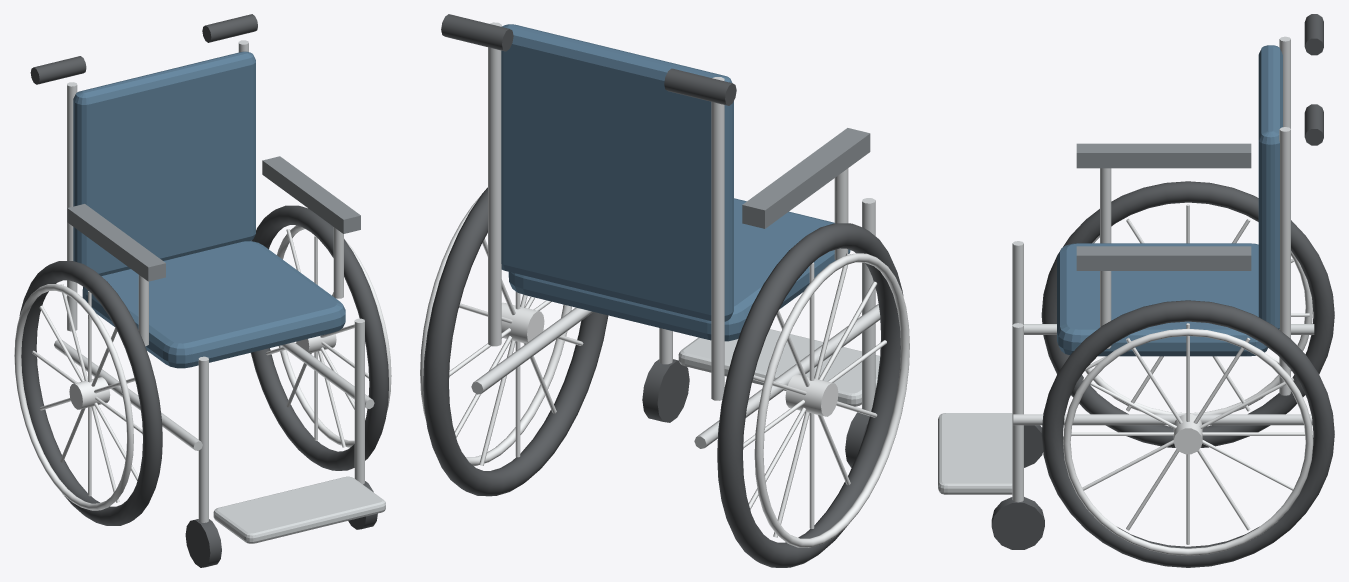
File: wheelchair.glb
The picture shows the model from 3 angles, left to right: view 1: azimuth 30°, elevation 25°; view 2: azimuth 150°, elevation 25°; view 3: azimuth 270°, elevation 25°; orthographic projection. The views are drawn at different scales.
Parts seen in each view (by area): view 1: wheelchair, wheel_L, wheel_R; view 2: wheelchair, wheel_L, wheel_R; view 3: wheelchair, wheel_R, wheel_L.
Part boxes in pixels (x1,y1,x2,y2): wheelchair: [30, 14, 385, 567]; wheel_L: [14, 260, 162, 525]; wheel_R: [251, 205, 391, 470]; wheelchair: [441, 14, 880, 467]; wheel_L: [717, 223, 909, 567]; wheel_R: [420, 187, 608, 496]; wheelchair: [938, 14, 1323, 549]; wheel_R: [1041, 300, 1334, 567]; wheel_L: [1041, 181, 1334, 447].
Bounding box in the file's own units: 0.676 × 0.991 × 0.817.
